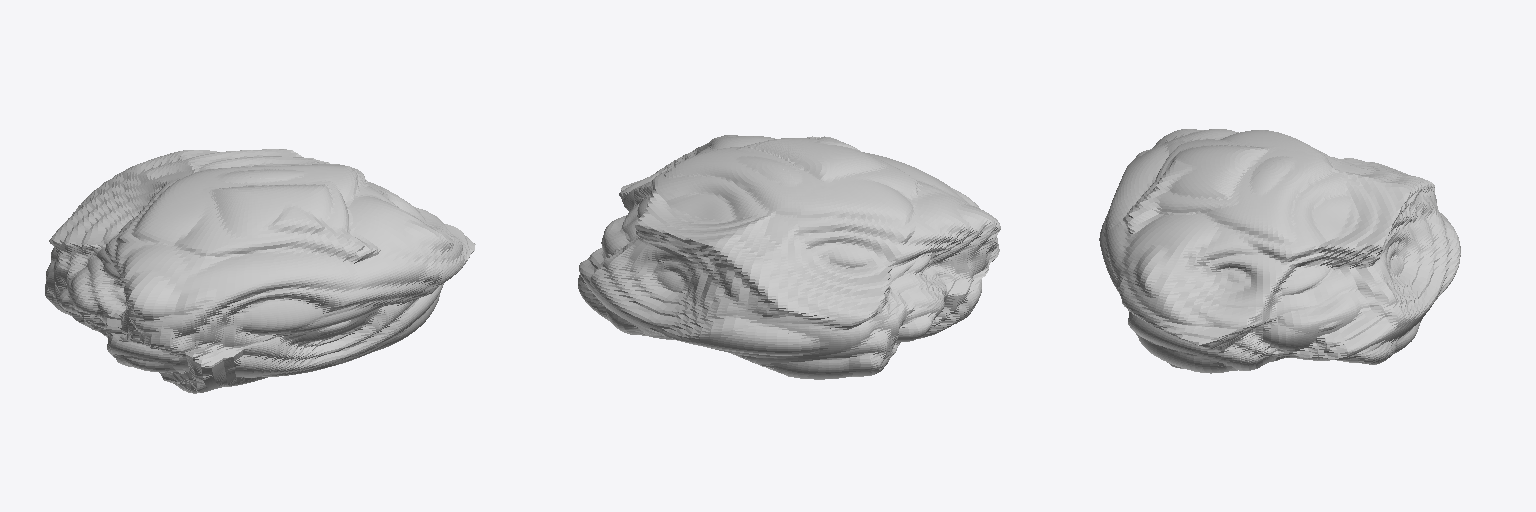
Rendered from bola-destruida.obj.
3 renders of one model, left to right at view 1: azimuth 30°, elevation 25°; view 2: azimuth 150°, elevation 25°; view 3: azimuth 270°, elevation 25°, orthographic.
Parts seen in each view (by area): view 1: Bola-destruida_Landscape.003; view 2: Bola-destruida_Landscape.003; view 3: Bola-destruida_Landscape.003.
Boxes of the visible parts, box(x1,y1,x2,y2) form: Bola-destruida_Landscape.003: box(45, 149, 475, 393); Bola-destruida_Landscape.003: box(578, 135, 1000, 379); Bola-destruida_Landscape.003: box(1099, 129, 1460, 373).
Size of the model in its own units: 4.08 by 1.93 by 3.57.